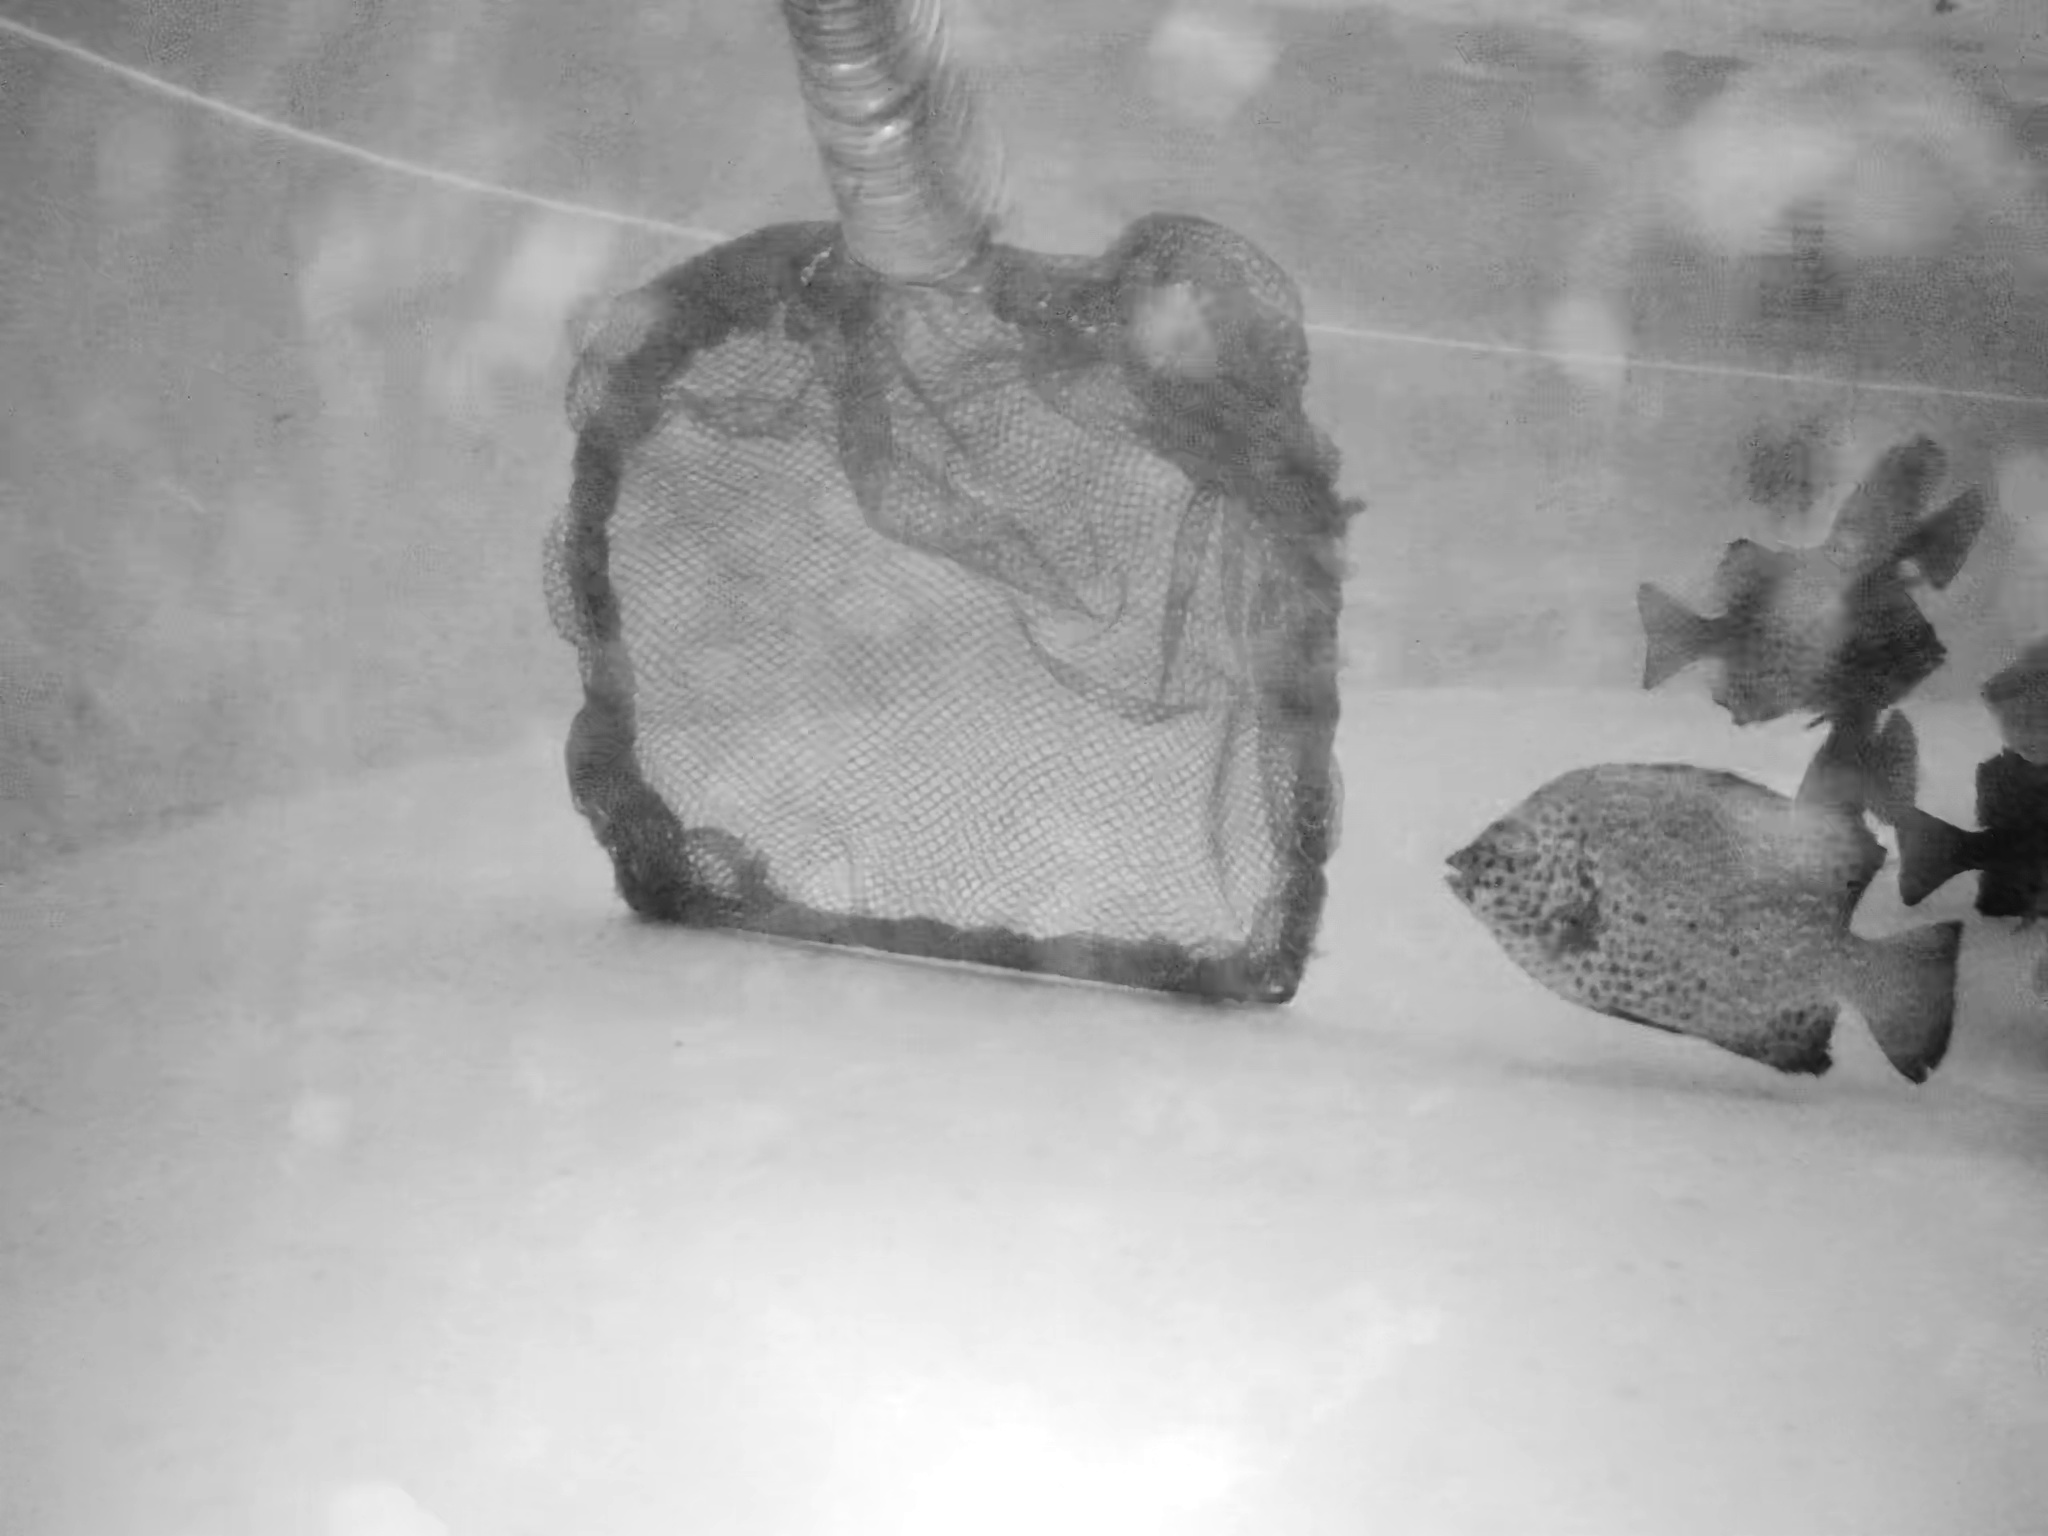fish: (1455, 731, 1966, 1100), (1638, 523, 1942, 724), (1804, 720, 1987, 913), (1921, 763, 2048, 949), (1827, 437, 1983, 582), (1725, 399, 1845, 520), (1980, 644, 2048, 779)
